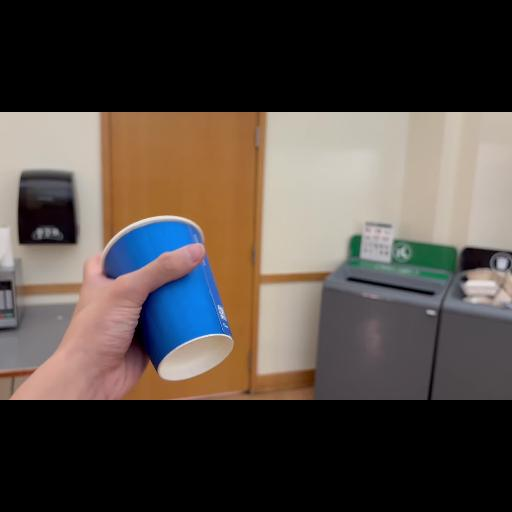lp_paper_cup: (88, 211, 246, 385)
